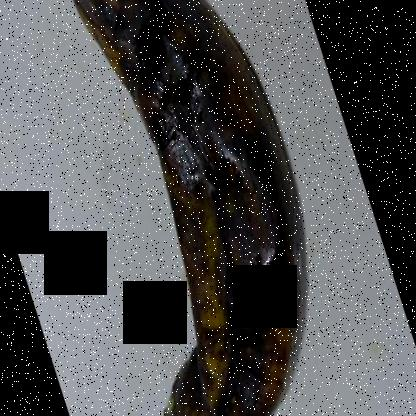rotten: (51, 1, 324, 416)
